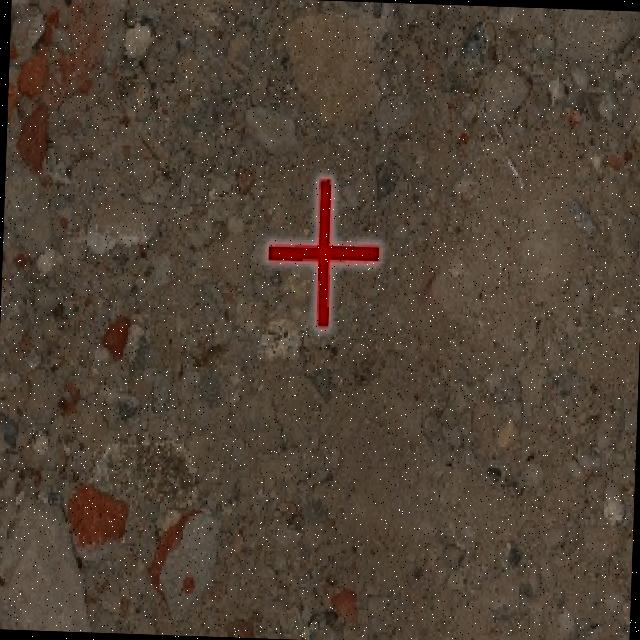x_marker: (265, 175, 380, 328)
